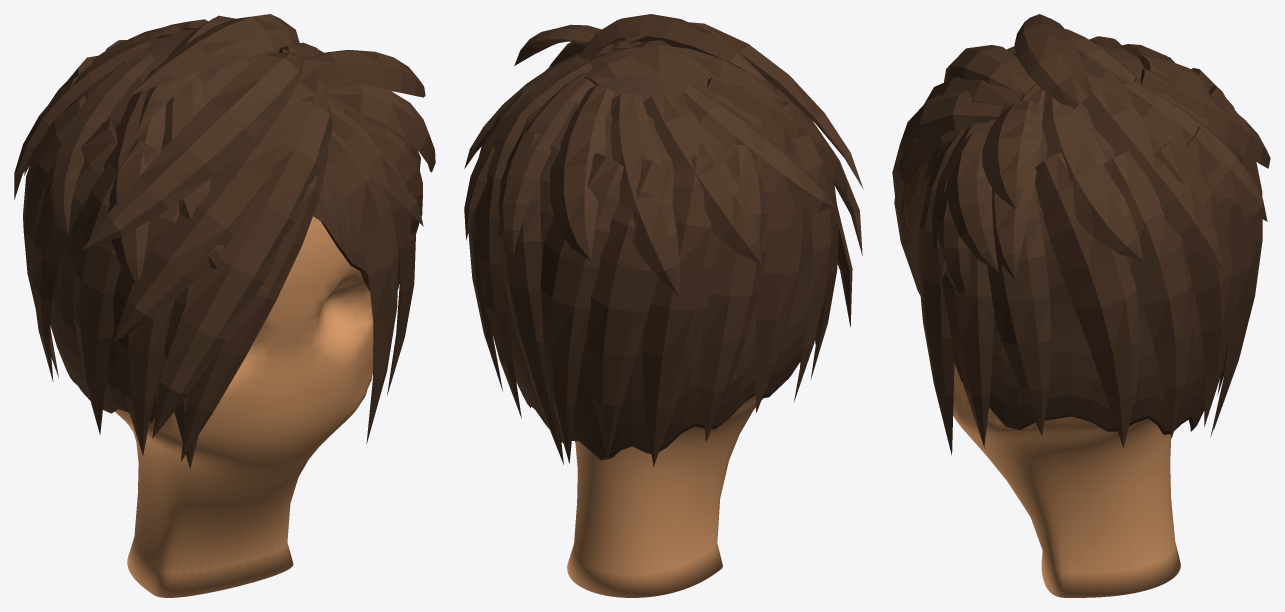
The model's file is base-03-corte-01.glb.
3 views of the same model, side by side, from view 1: azimuth 30°, elevation 25°; view 2: azimuth 150°, elevation 25°; view 3: azimuth 270°, elevation 25° (orthographic). The views are drawn at different scales.
Parts seen in each view (by area): view 1: RCL_Corte_Feminino_01, RCL_Base_Feminina_03; view 2: RCL_Corte_Feminino_01, RCL_Base_Feminina_03; view 3: RCL_Corte_Feminino_01, RCL_Base_Feminina_03.
Boxes of the visible parts, x1,y1,x2,y2 form: RCL_Corte_Feminino_01: (14,14,435,469); RCL_Base_Feminina_03: (115,216,373,597); RCL_Corte_Feminino_01: (464,14,863,466); RCL_Base_Feminina_03: (567,395,762,597); RCL_Corte_Feminino_01: (892,14,1270,455); RCL_Base_Feminina_03: (953,362,1180,597).
Bounding box in the file's own units: 0.222 × 0.3331 × 0.2118.
